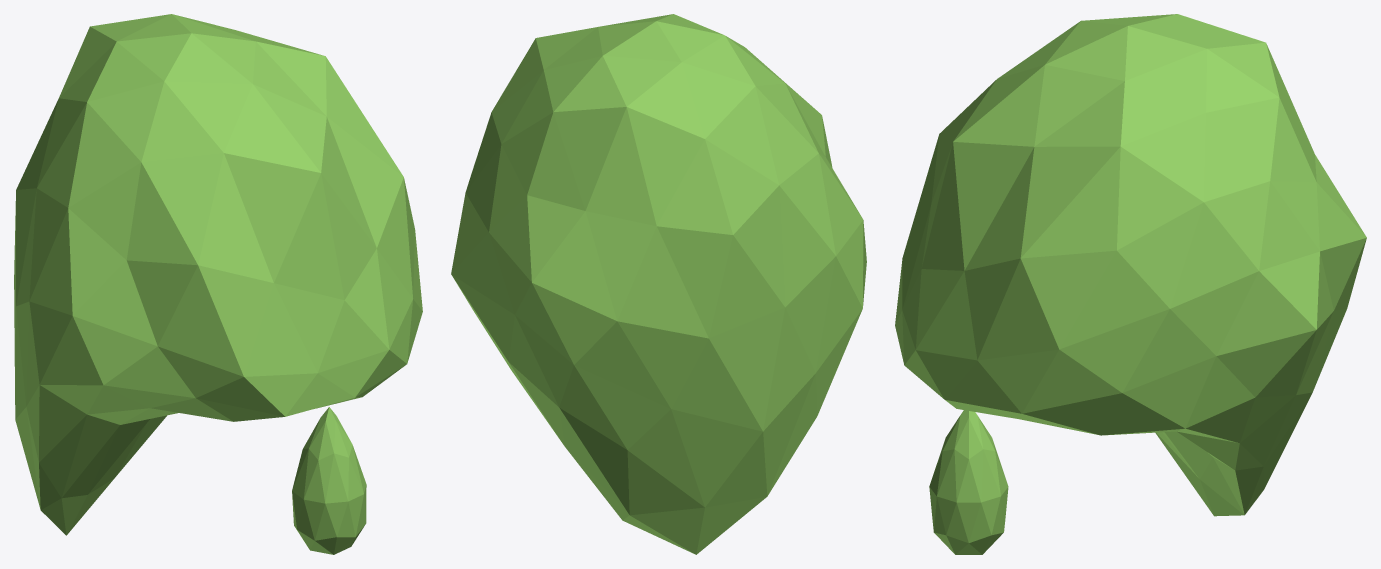
File: GooBall.FBX
The picture shows the model from 3 angles, left to right: view 1: azimuth 30°, elevation 25°; view 2: azimuth 150°, elevation 25°; view 3: azimuth 270°, elevation 25°; orthographic projection. The views are drawn at different scales.
Visible parts, largest first — view 1: GeoSphere001; view 2: GeoSphere001; view 3: GeoSphere001.
Boxes of the visible parts, x1,y1,x2,y2 form: GeoSphere001: (14, 14, 422, 554); GeoSphere001: (451, 14, 866, 554); GeoSphere001: (895, 14, 1366, 554).
Size of the model in its own units: 14.15 by 18.45 by 14.82.
